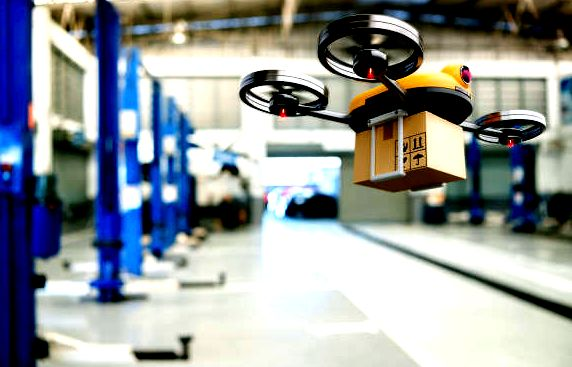Drone: (237, 11, 550, 153)
